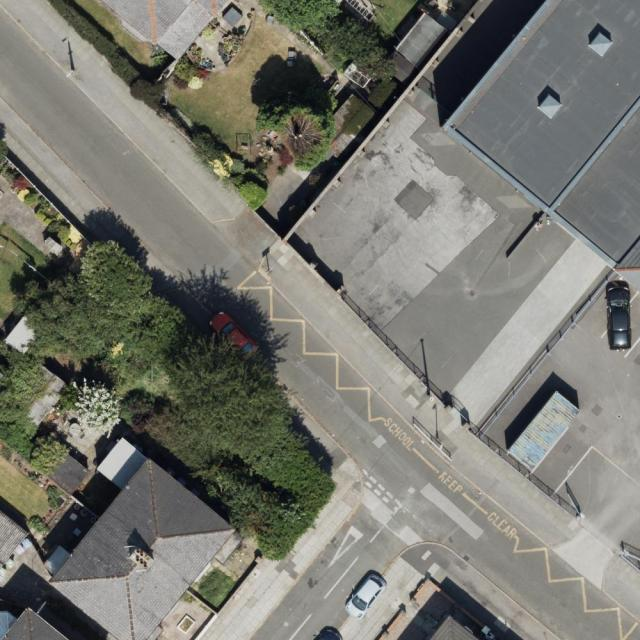roof: (441, 0, 640, 301), (48, 452, 239, 640), (94, 0, 240, 66), (0, 608, 70, 640), (427, 612, 483, 640)
